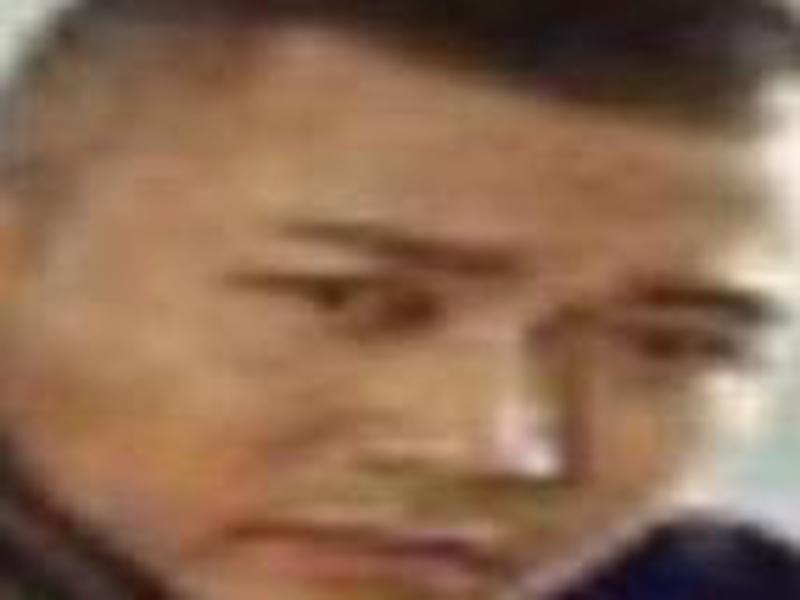without_mask: (2, 21, 797, 600)
